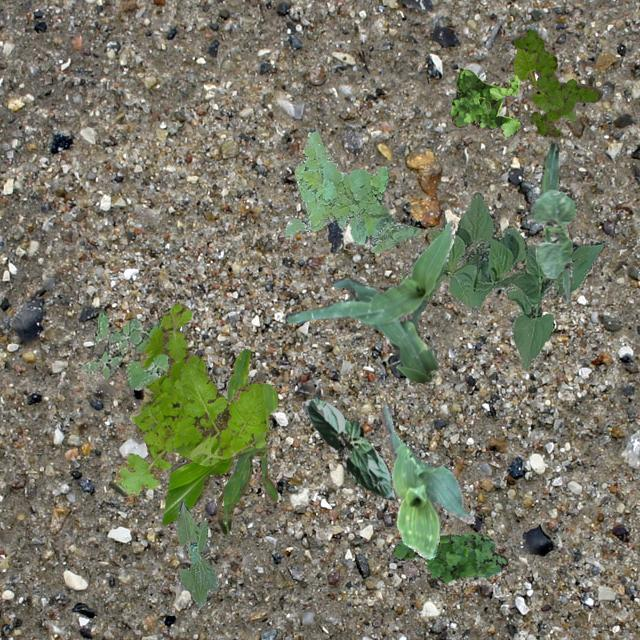crop: (428, 190, 604, 368), (284, 220, 453, 382), (162, 348, 276, 534), (381, 402, 474, 558), (302, 396, 394, 498), (526, 142, 572, 302), (512, 46, 574, 120), (175, 500, 218, 606), (530, 188, 576, 280)
weed: (108, 300, 276, 496), (284, 131, 420, 251), (512, 27, 602, 136), (80, 312, 168, 388), (391, 532, 506, 582), (449, 66, 518, 136)
